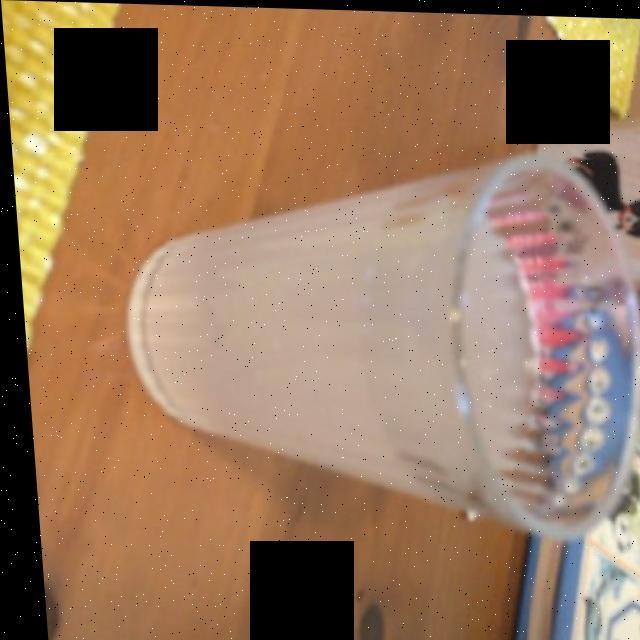drink: (138, 171, 569, 493)
